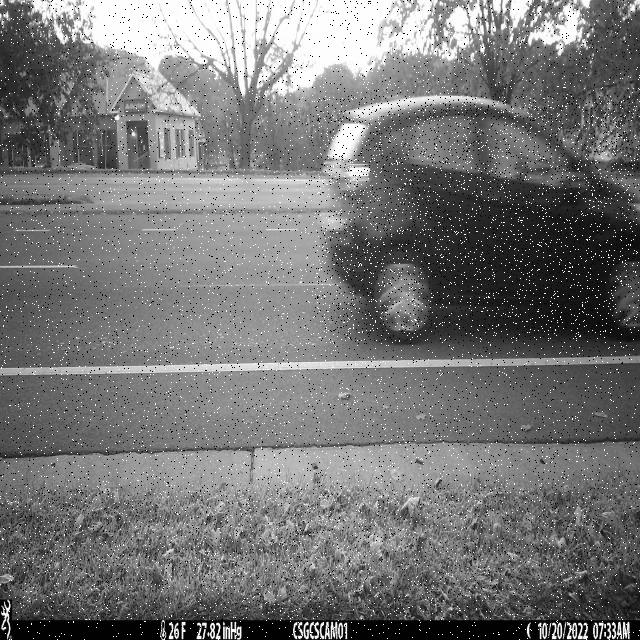Hatchback: (317, 96, 640, 341)
